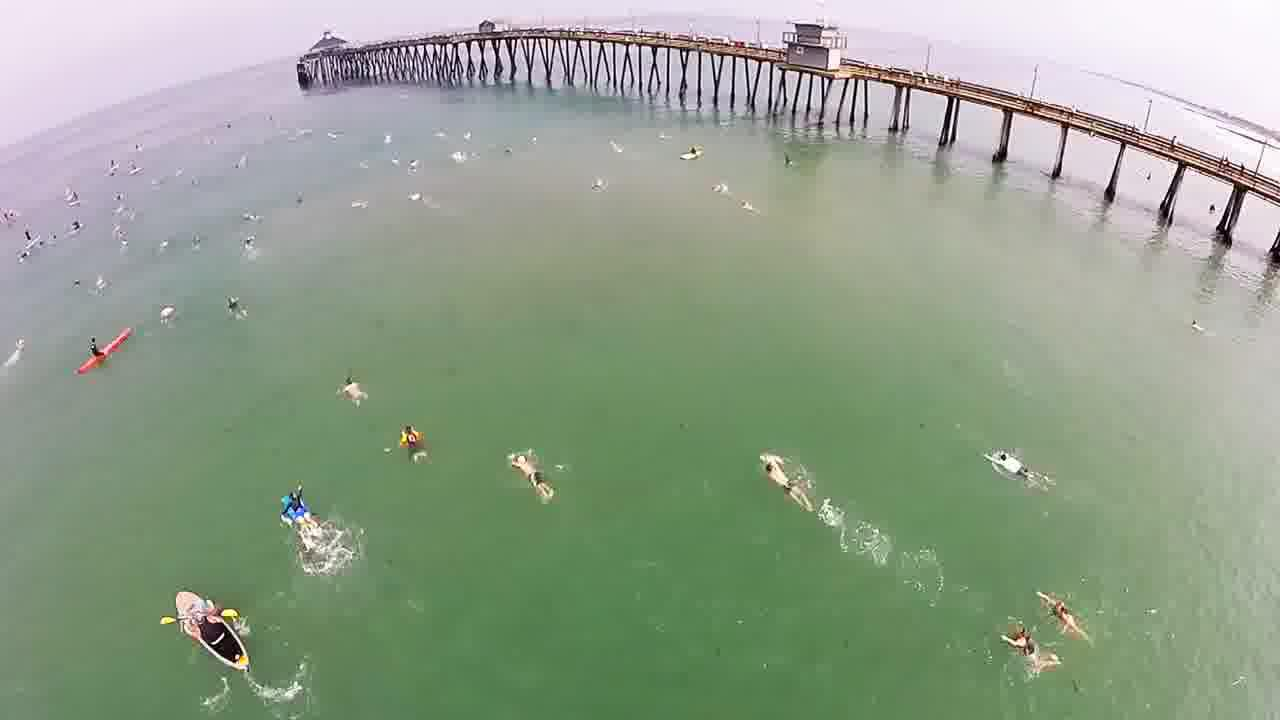human: (747, 444, 821, 516), (980, 431, 1046, 489), (384, 405, 430, 478), (212, 279, 260, 341), (1036, 580, 1091, 629), (324, 358, 374, 411), (493, 440, 549, 487), (988, 616, 1036, 661)
